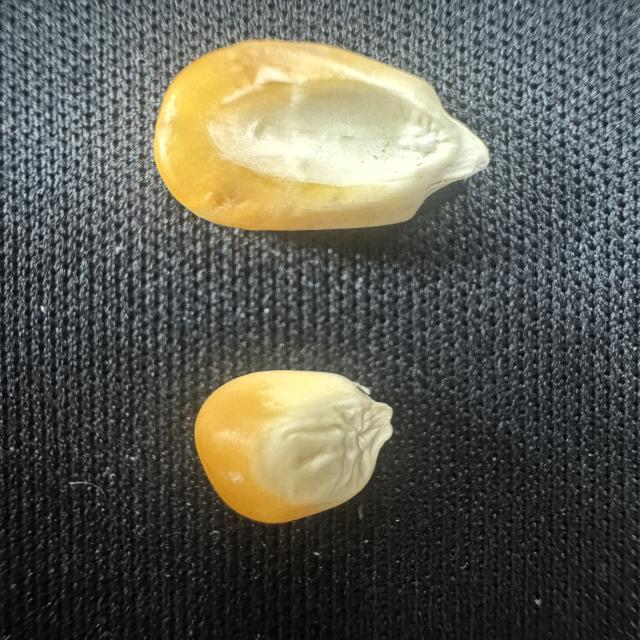Bad-Seed: (190, 365, 397, 526)
Good-Seed: (150, 36, 497, 234)
